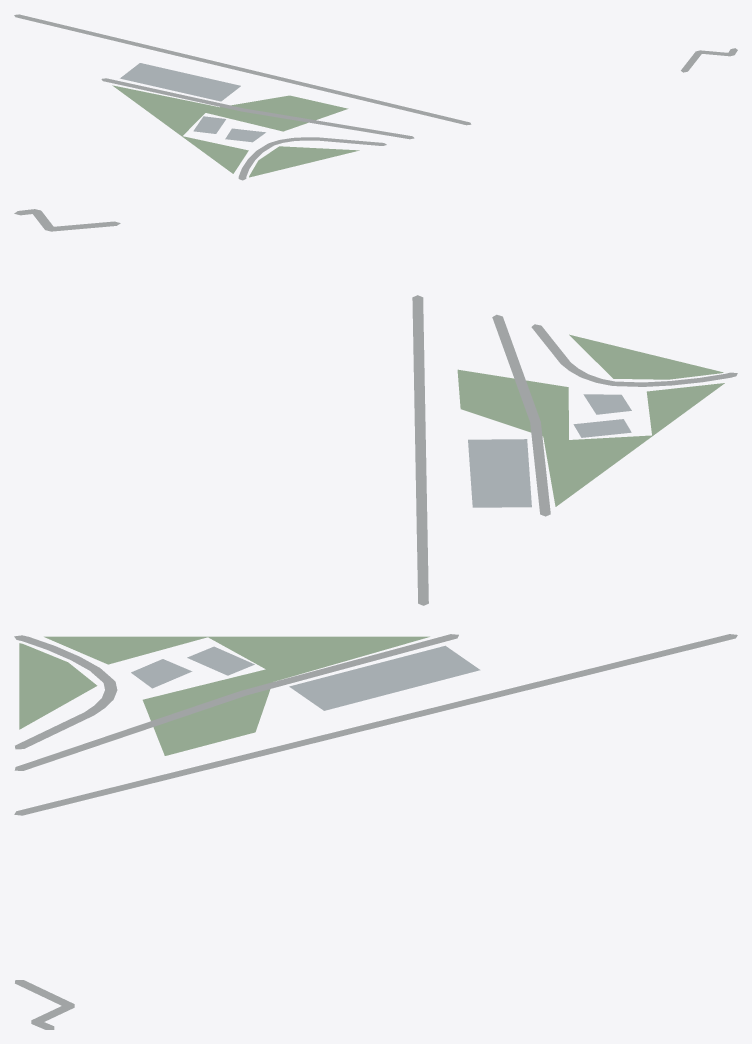
The model's file is -19_-2-known-coarse.glb.
3 renders of one model, top to bottom at view 1: azimuth 30°, elevation 25°; view 2: azimuth 150°, elevation 25°; view 3: azimuth 270°, elevation 25°, orthographic. The views are drawn at different scales.
Bounding box in the file's own units: 229 × 0.15 × 177.
